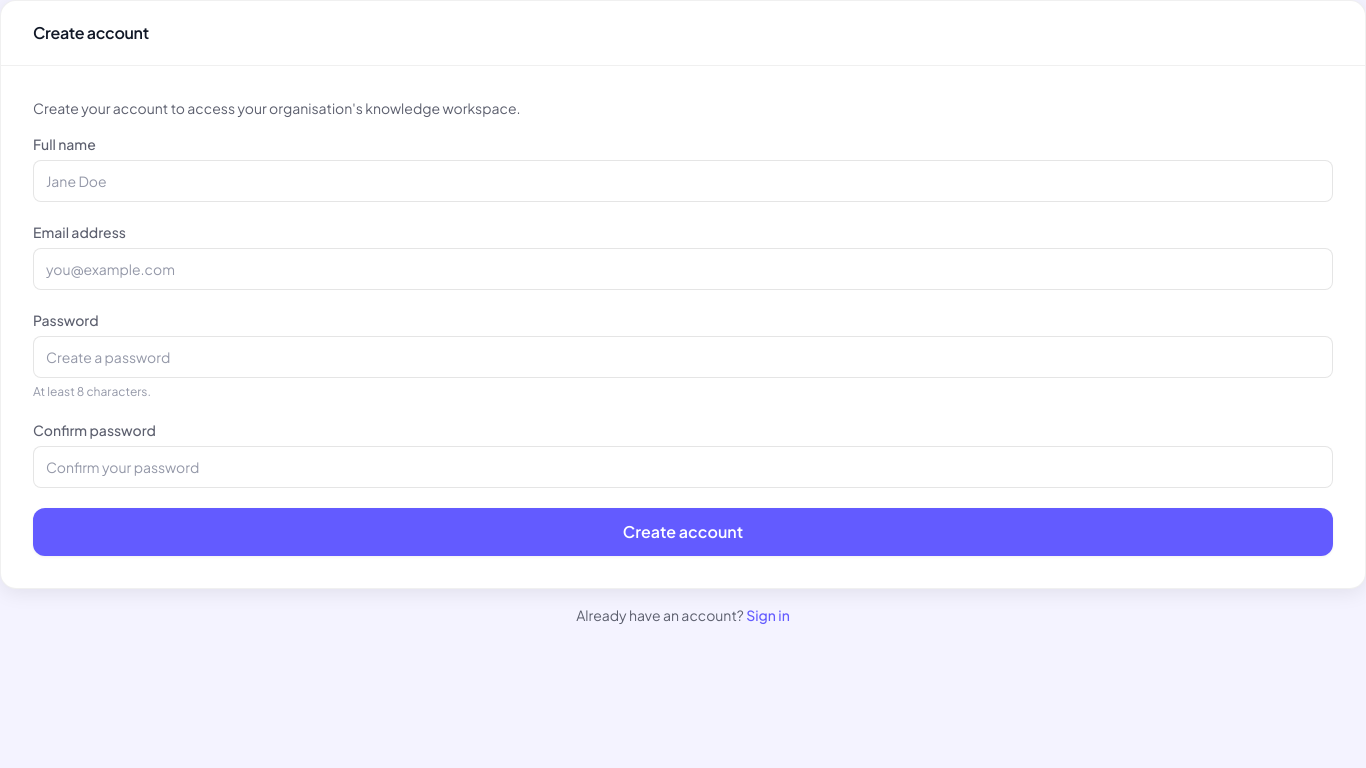
it: RegisterPage › shows duplicate account errors
The width and height of the screenshot is (1366, 768).
Type "Ada Lovelace" into the field labelled "Full name" at (683, 181), box [33,160,1333,202]
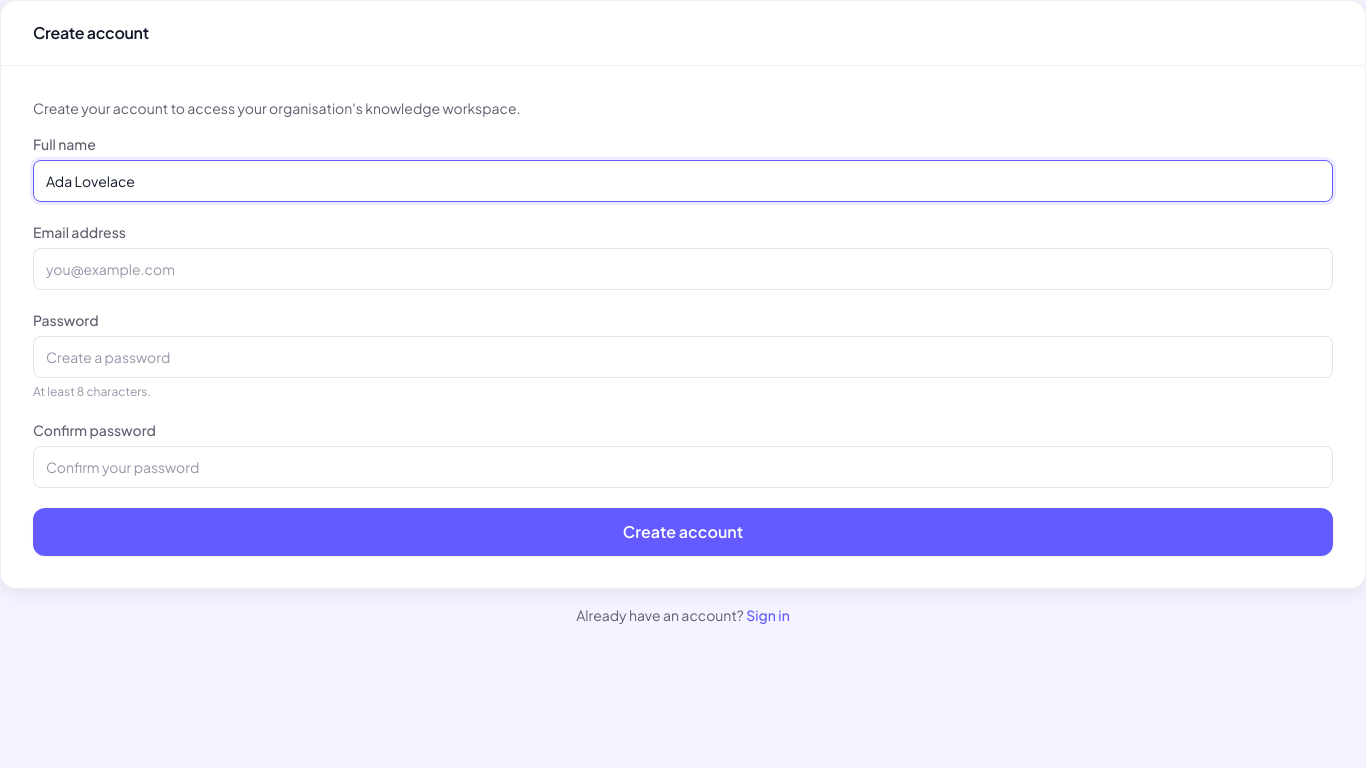
Type "ada@example.com" into the field labelled "Email address" at (683, 269), box [33,248,1333,290]
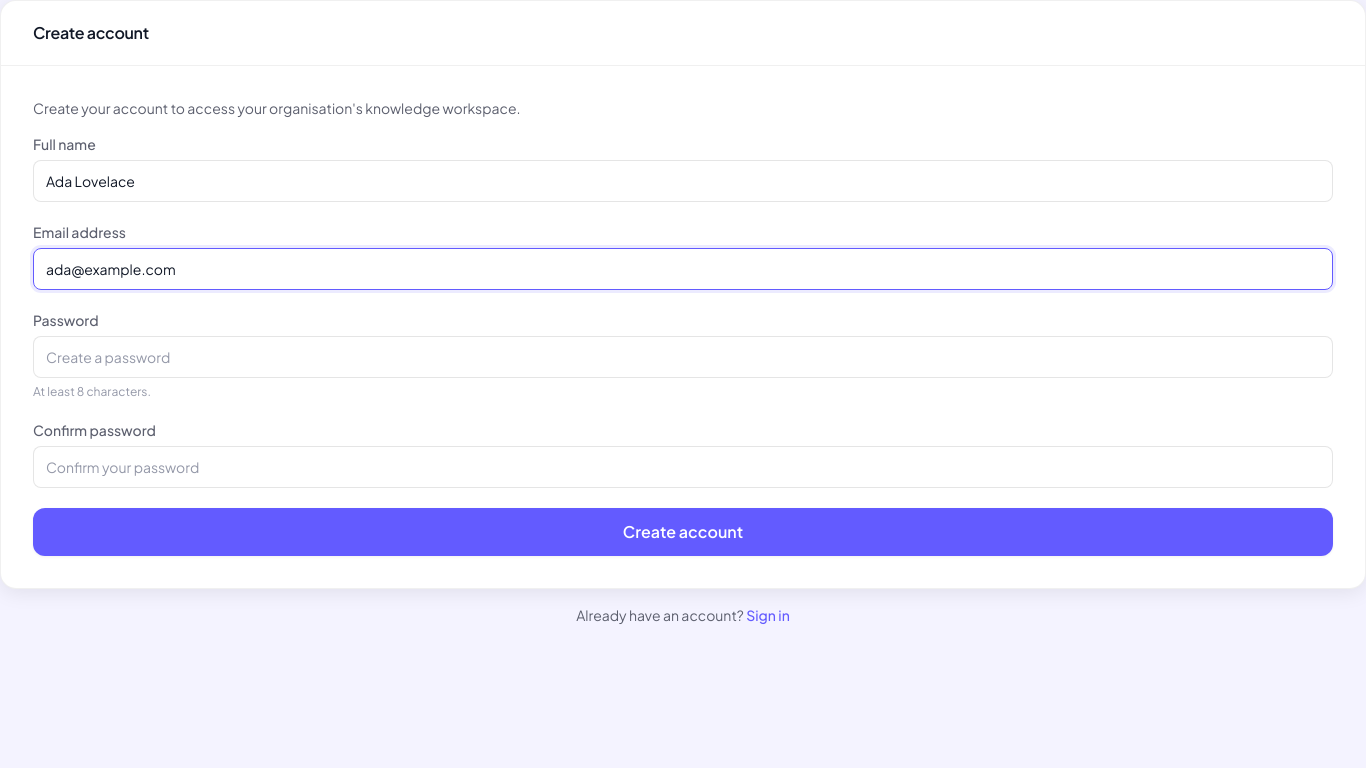
Type "SecurePass1!" into the password field labelled "Password" at (683, 357), box [33,336,1333,378]
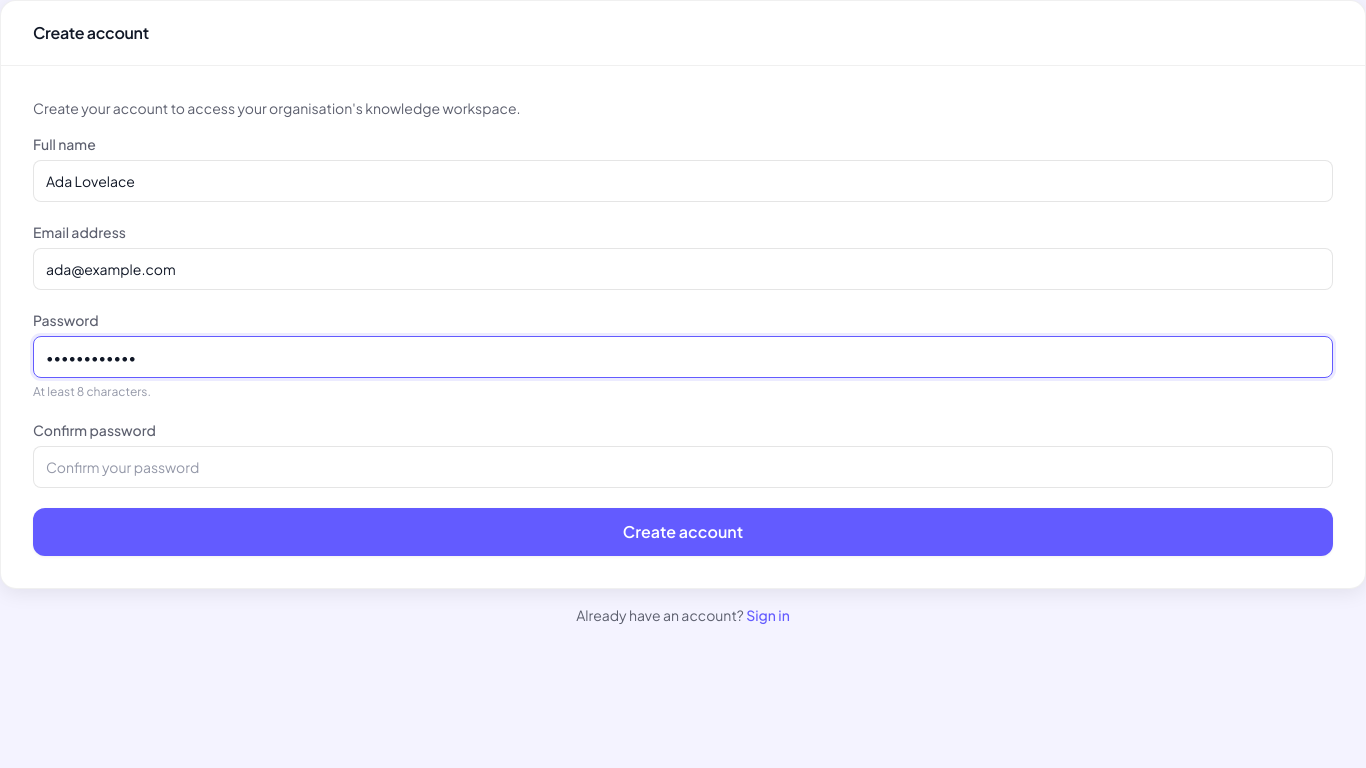
Type "SecurePass1!" into the password field labelled "Confirm password" at (683, 467), box [33,446,1333,488]
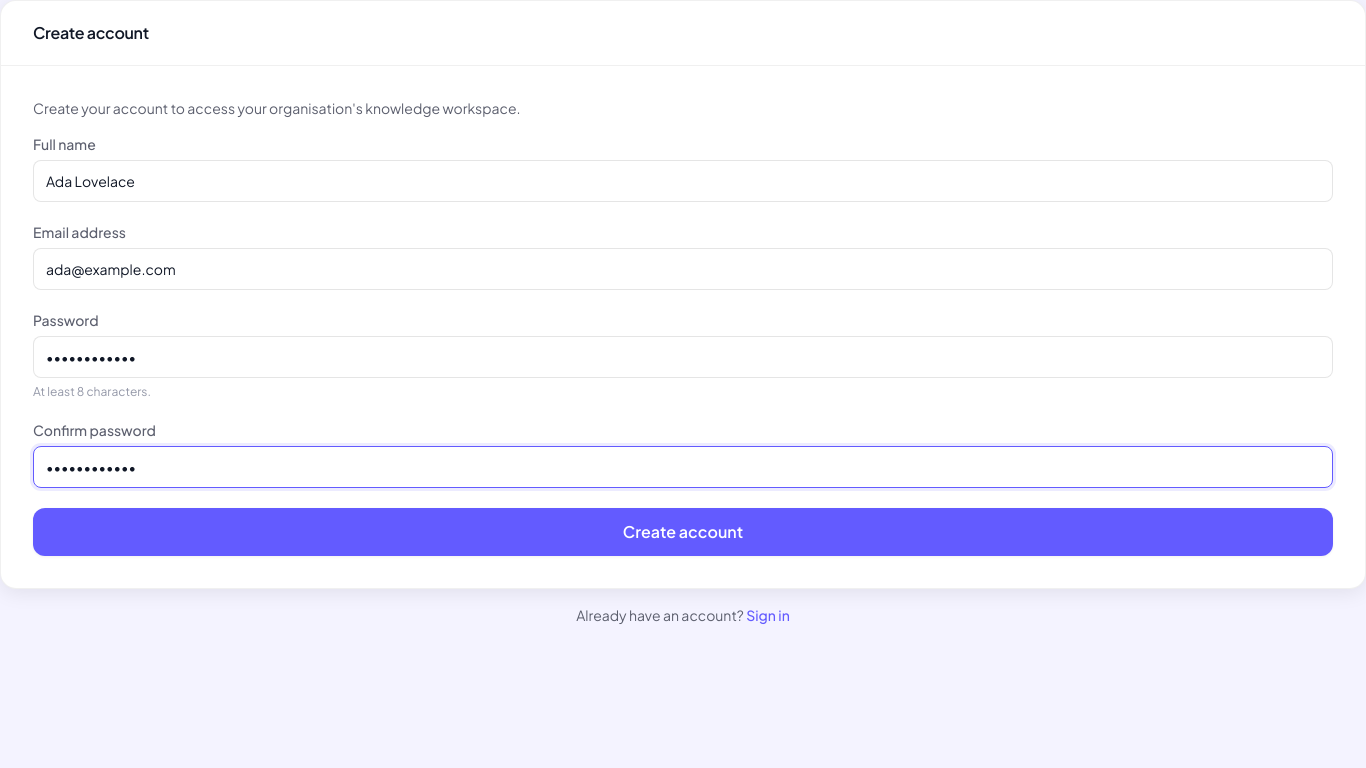
Click the button "Create account" at (683, 532), box [33,508,1333,556]
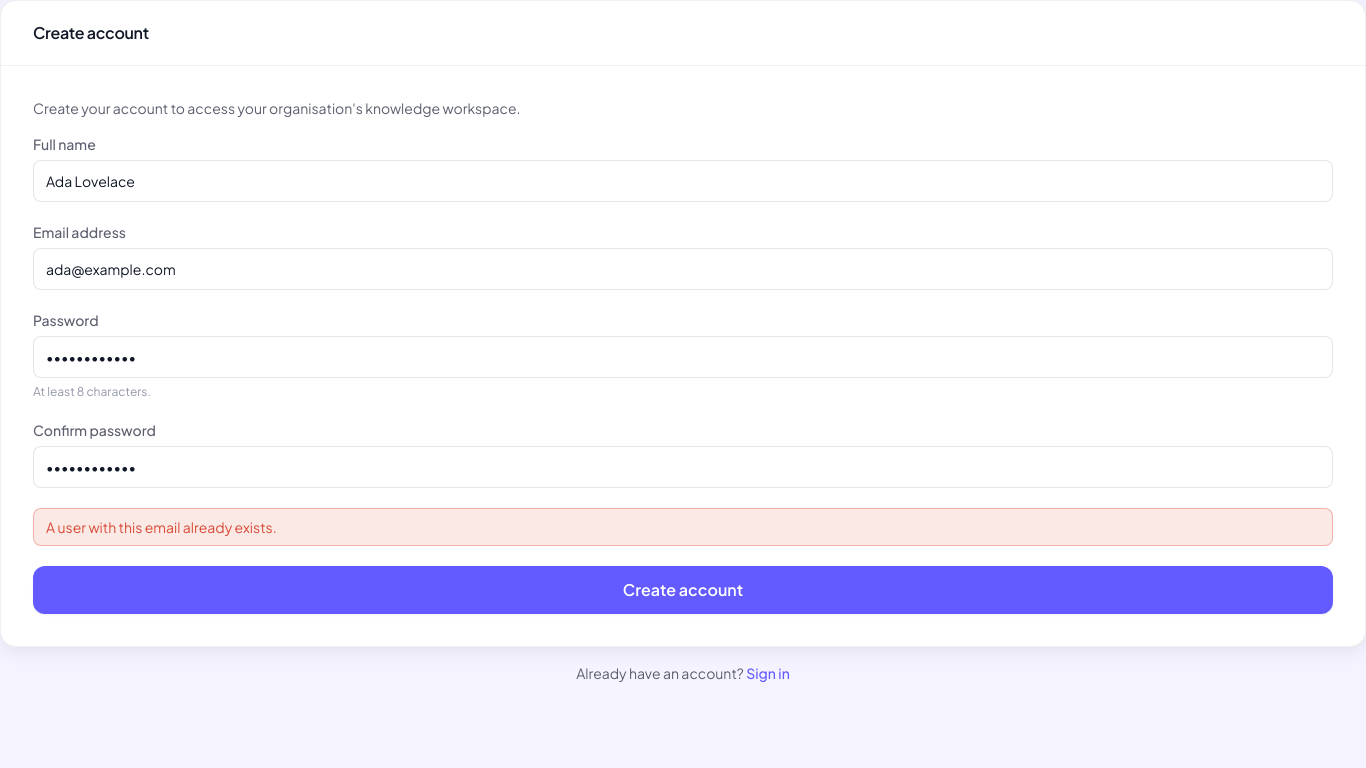
expect the message shows "email already exists": met, box [46,518,277,536]
